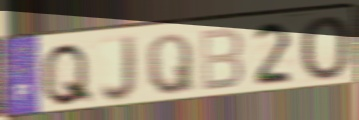2: (252, 20, 295, 89)
B: (198, 26, 245, 95)
J: (98, 33, 138, 105)
O: (297, 14, 353, 84)
Q: (39, 41, 96, 109), (144, 32, 197, 97)
